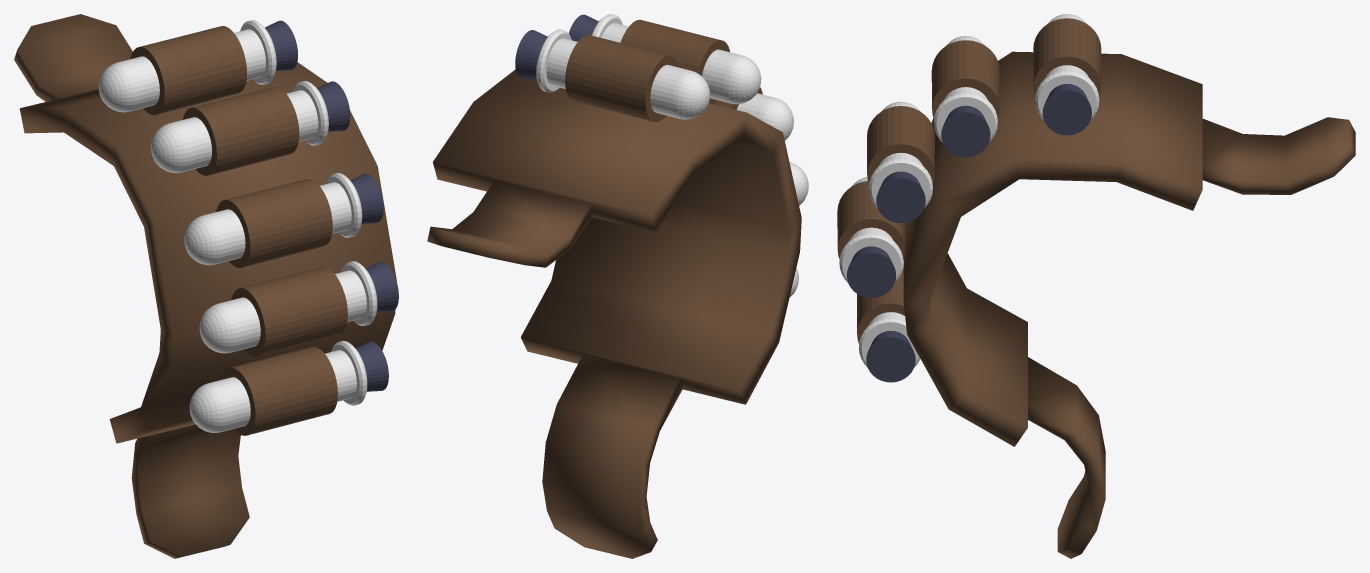
The model's file is shotgun_ammo_pickup_animated.fbx.
3 views of the same model, side by side, from view 1: azimuth 30°, elevation 25°; view 2: azimuth 150°, elevation 25°; view 3: azimuth 270°, elevation 25° (orthographic). The views are drawn at different scales.
Parts seen in each view (by area): view 1: Cylinder; view 2: Cylinder; view 3: Cylinder.
Part boxes in pixels (x1,y1,x2,y2): Cylinder: [14, 14, 398, 558]; Cylinder: [427, 14, 808, 558]; Cylinder: [837, 14, 1355, 558].
Size of the model in its own units: 119 by 264 by 246.
